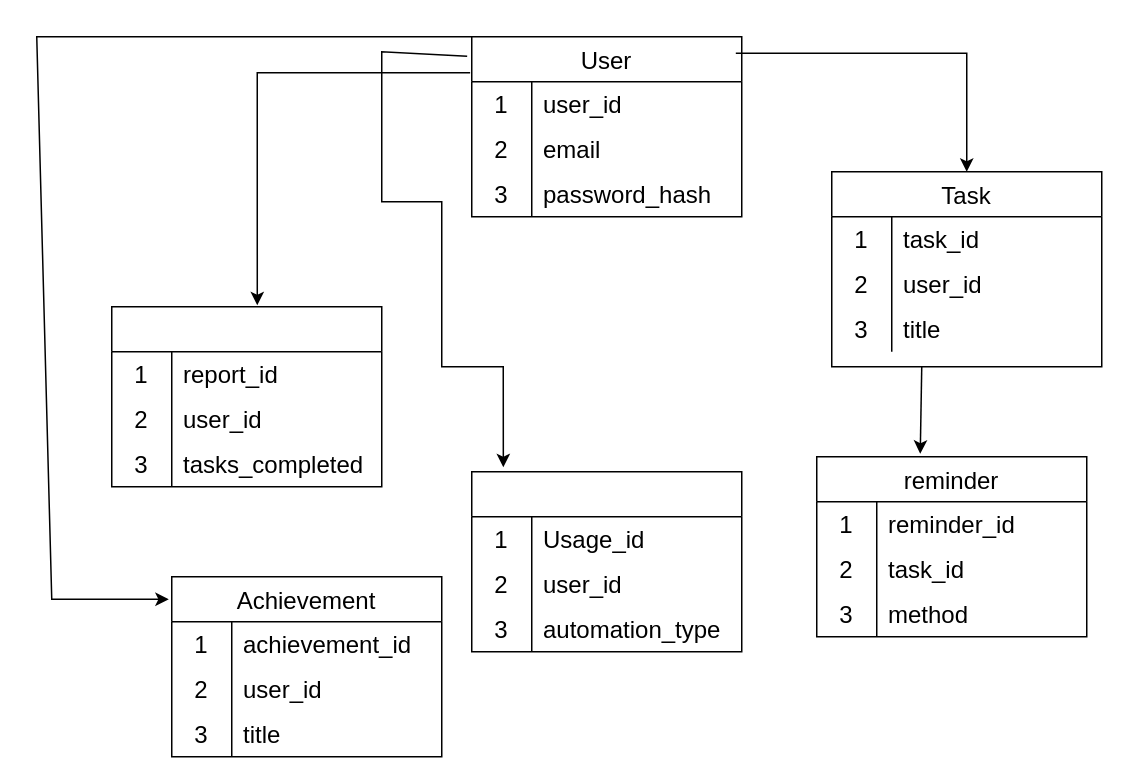
The diagram is 1128 pixels wide and 783 high, and some of its shapes have lost their labels. Here are the shapes that lost their labels. From the top down, the box of each, then its label:
(110, 305, 382, 487): ProductivityReport
(470, 470, 742, 652): TaskAutomationUsage
